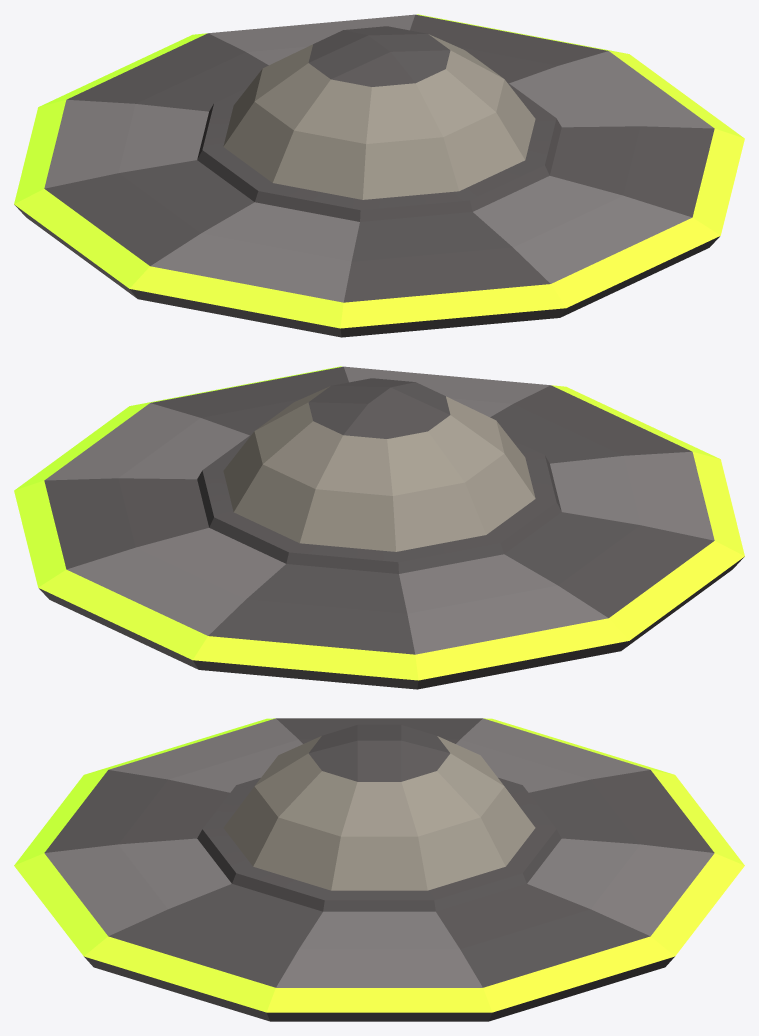
The model's file is space_ufo.fbx.
The picture shows the model from 3 angles, top to bottom: view 1: azimuth 30°, elevation 25°; view 2: azimuth 150°, elevation 25°; view 3: azimuth 270°, elevation 25°; orthographic projection. The views are drawn at different scales.
Parts seen in each view (by area): view 1: space_ufo; view 2: space_ufo; view 3: space_ufo.
Boxes of the visible parts, left/top/right/bottom form: space_ufo: left=14, top=14, right=744, bottom=337; space_ufo: left=14, top=366, right=744, bottom=689; space_ufo: left=14, top=718, right=744, bottom=1021.
Bounding box in the file's own units: 190 × 67.67 × 200.
